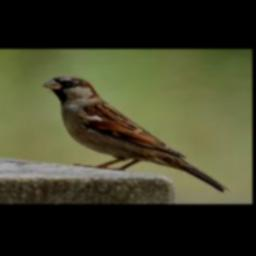Sparrow: (42, 77, 230, 192)
